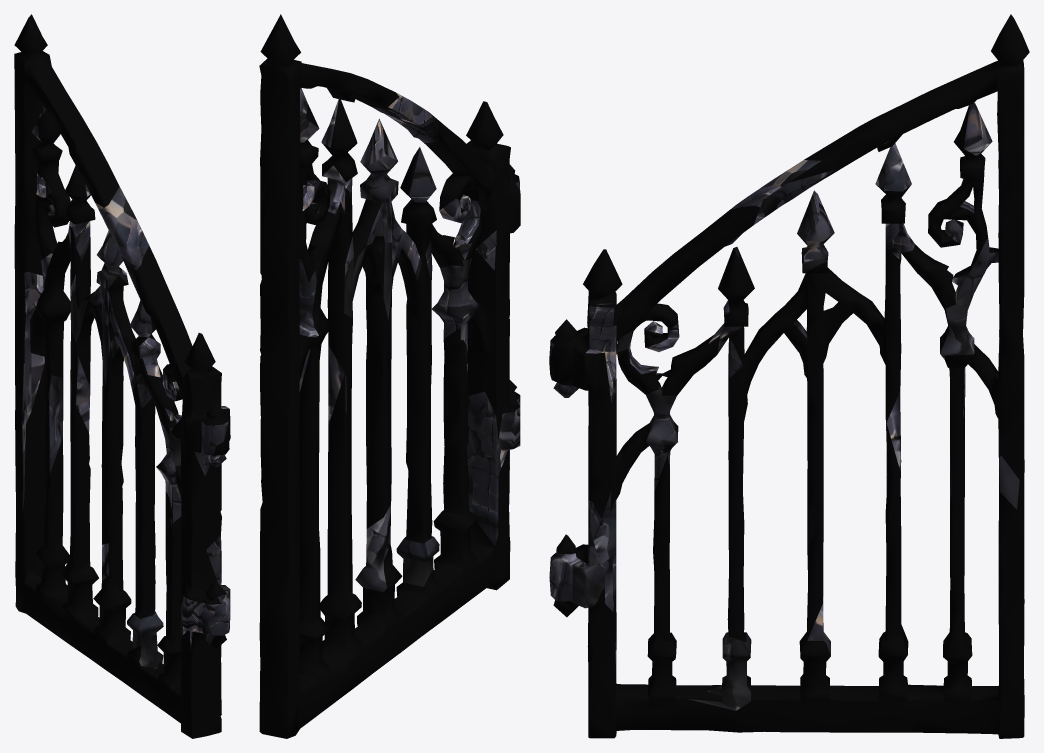
The model's file is RIP0 (2).obj.
The picture shows the model from 3 angles, left to right: view 1: azimuth 30°, elevation 25°; view 2: azimuth 150°, elevation 25°; view 3: azimuth 270°, elevation 25°; orthographic projection. The views are drawn at different scales.
Visible parts, largest first — view 1: RIP0; view 2: RIP0; view 3: RIP0.
Boxes of the visible parts, x1=… form: RIP0: x1=14, y1=14, x2=230, y2=738; RIP0: x1=259, y1=14, x2=520, y2=738; RIP0: x1=549, y1=14, x2=1029, y2=738.
Bounding box in the file's own units: 0.0763 × 1 × 0.6066.
